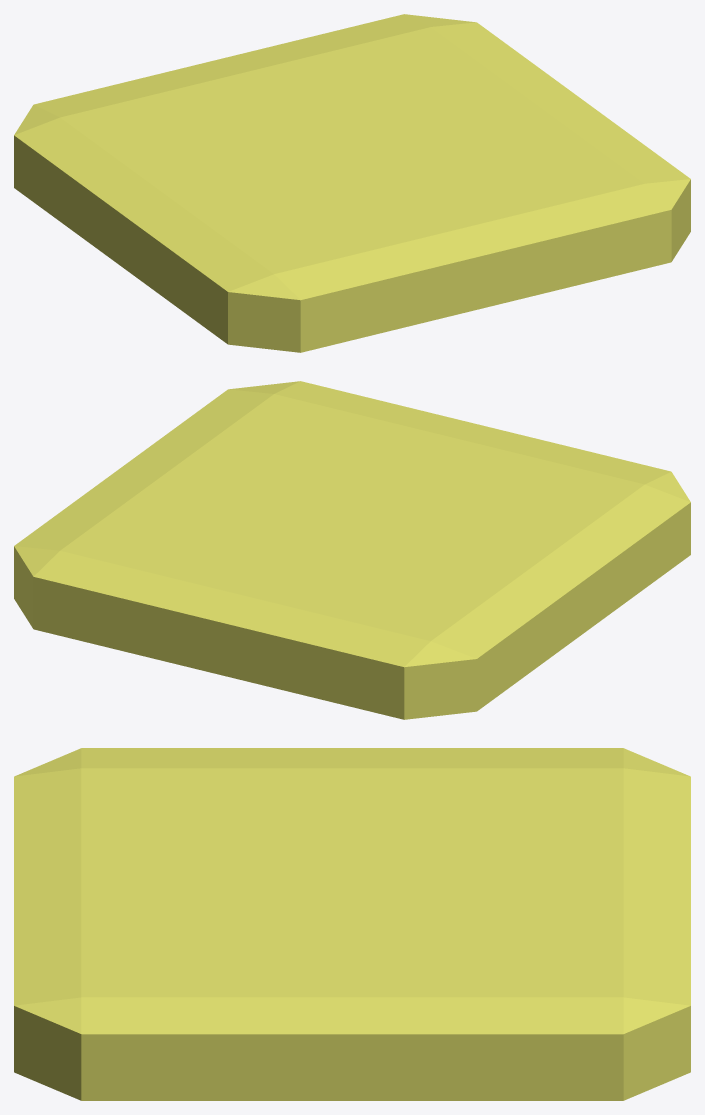
Rendered from jumppltformm33.fbx.
3 views of the same model, one above another, from view 1: azimuth 30°, elevation 25°; view 2: azimuth 150°, elevation 25°; view 3: azimuth 270°, elevation 25° (orthographic). The views are drawn at different scales.
Visible parts, largest first — view 1: jumpplatform; view 2: jumpplatform; view 3: jumpplatform.
Boxes of the visible parts, bbox=[...] form: jumpplatform: bbox=[14, 14, 690, 352]; jumpplatform: bbox=[14, 381, 690, 719]; jumpplatform: bbox=[14, 748, 690, 1100].
Bounding box in the file's own units: 5.09 × 0.6908 × 5.09.
